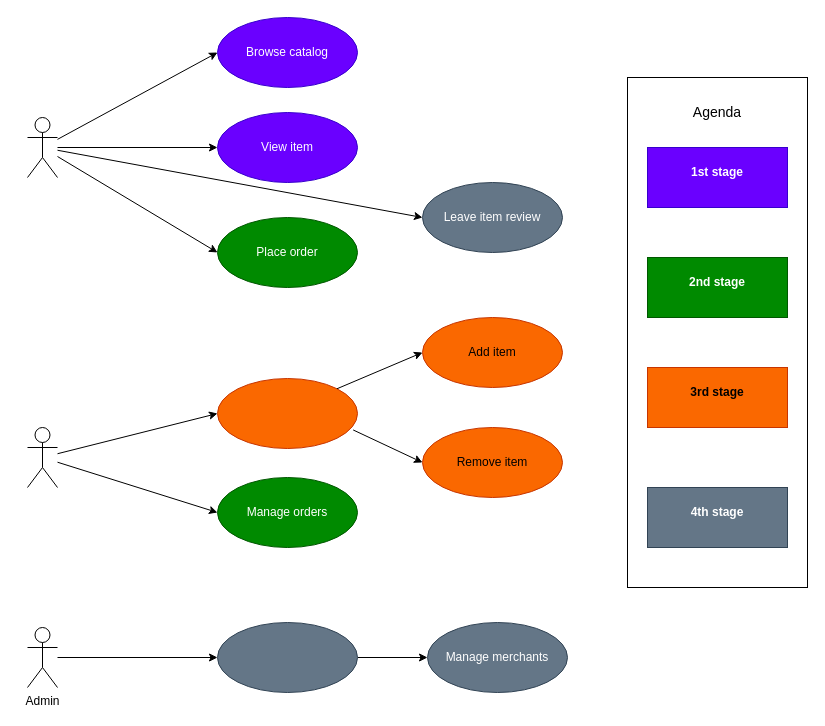
The diagram is 825 pixels wide and 726 high, and some of its shapes have lost their labels. The box of each missing label's shape, as (x1, y1, x2, y2) in pixels:
Manage inventory: (216, 378, 358, 448)
Manage system: (216, 622, 358, 692)
Merchant: (26, 426, 58, 488)
user: (26, 116, 58, 178)
